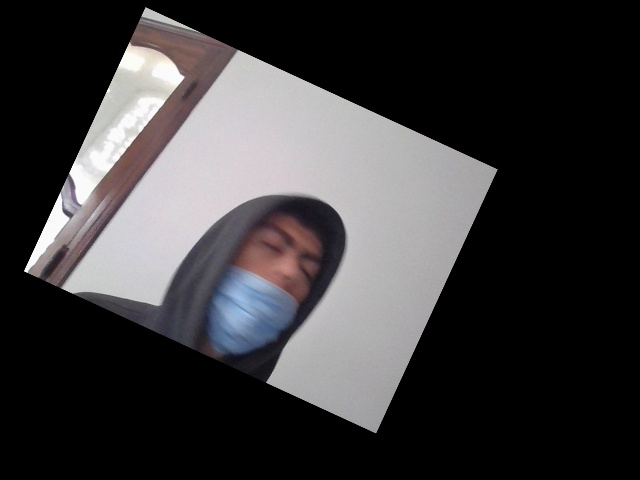mask_weared_incorrect: (200, 198, 334, 358)
